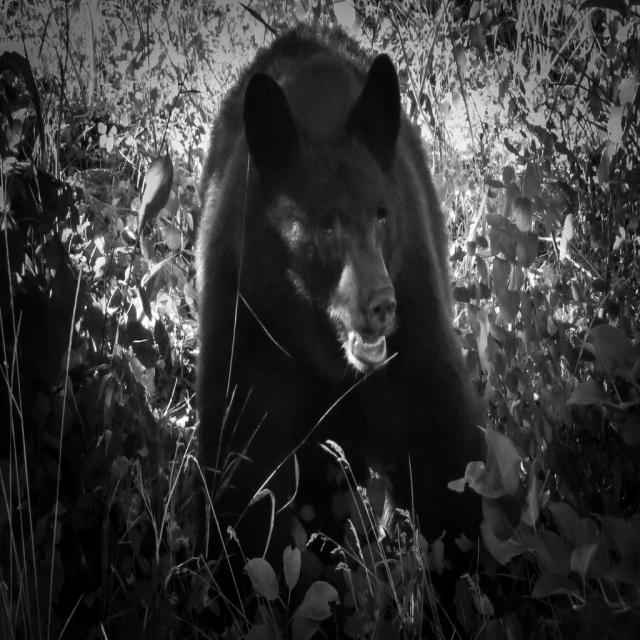Bear: (186, 26, 525, 539)
